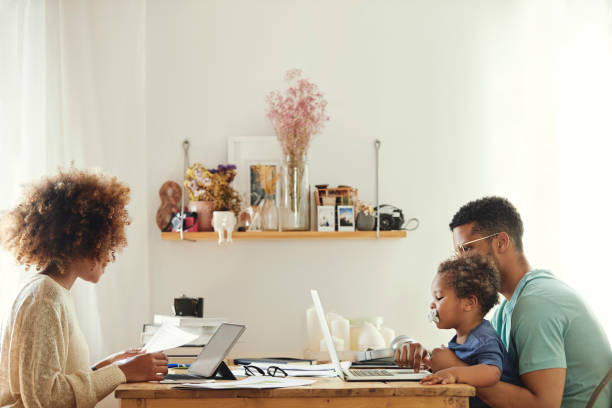without mask: (60, 218, 131, 290), (427, 265, 498, 337), (451, 203, 522, 275)
